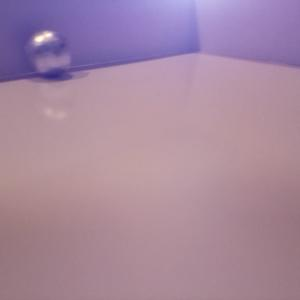alive_ball: (24, 29, 71, 77)
